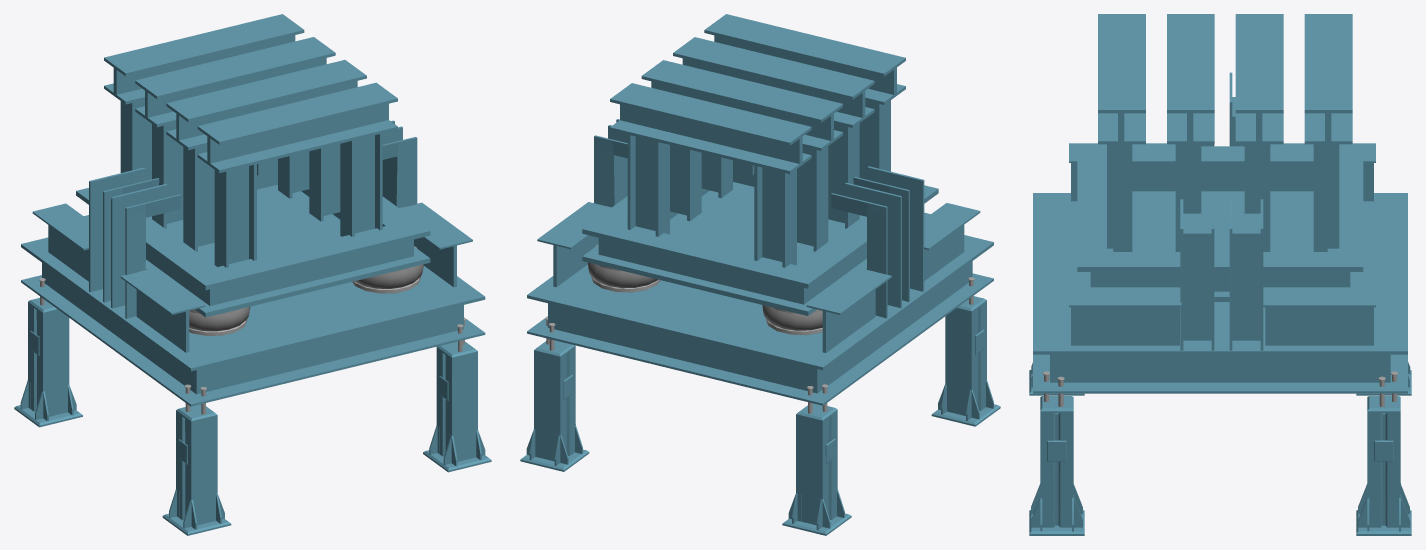
The picture shows the model from 3 angles, left to right: view 1: azimuth 30°, elevation 25°; view 2: azimuth 150°, elevation 25°; view 3: azimuth 270°, elevation 25°; orthographic projection. The views are drawn at different scales.
Visible parts, largest first — view 1: pCube19; view 2: pCube19; view 3: pCube19.
Part boxes in pixels (x1,y1,x2,y2): pCube19: (14, 14, 491, 535); pCube19: (520, 14, 1000, 535); pCube19: (1029, 14, 1411, 535).
Size of the model in its own units: 7.6 by 8.5 by 7.51.
